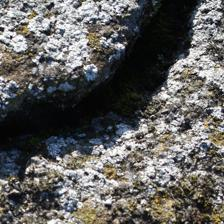Crack: (3, 2, 193, 141)
